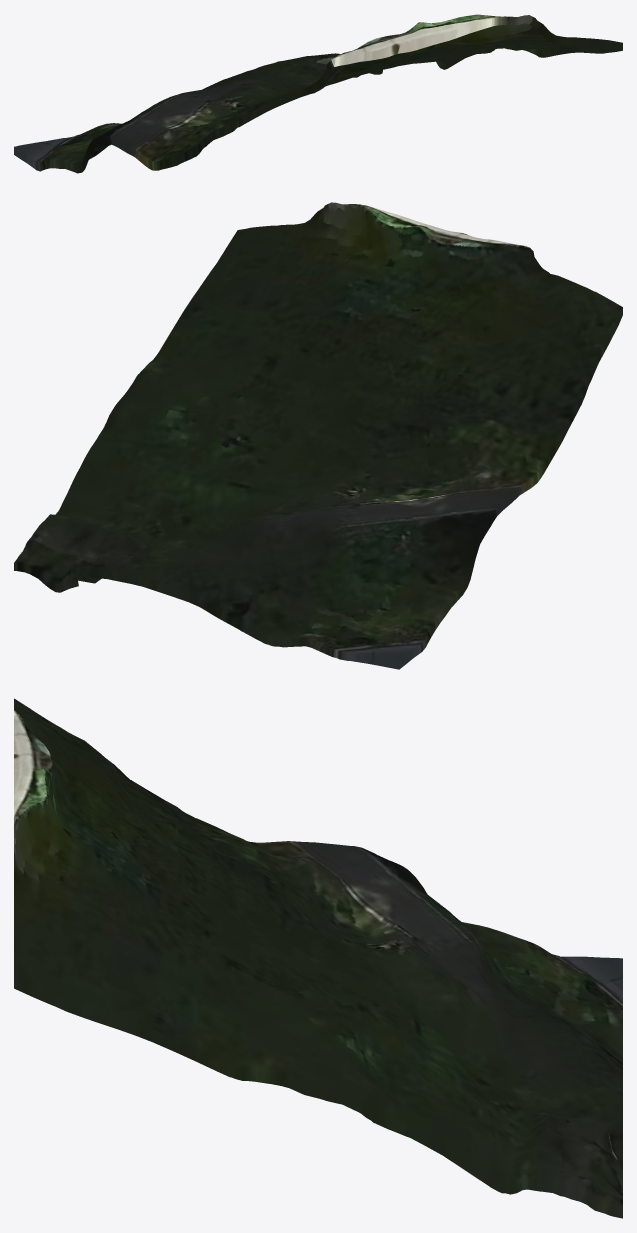
Rendered from z20-167753-405193-h0-yup-uvflip-v3-world.glb.
3 views of the same model, one above another, from view 1: azimuth 30°, elevation 25°; view 2: azimuth 150°, elevation 25°; view 3: azimuth 270°, elevation 25° (orthographic). The views are drawn at different scales.
Bounding box in the file's own units: 30.16 × 18.56 × 30.32.
1 material, 1 textured.
